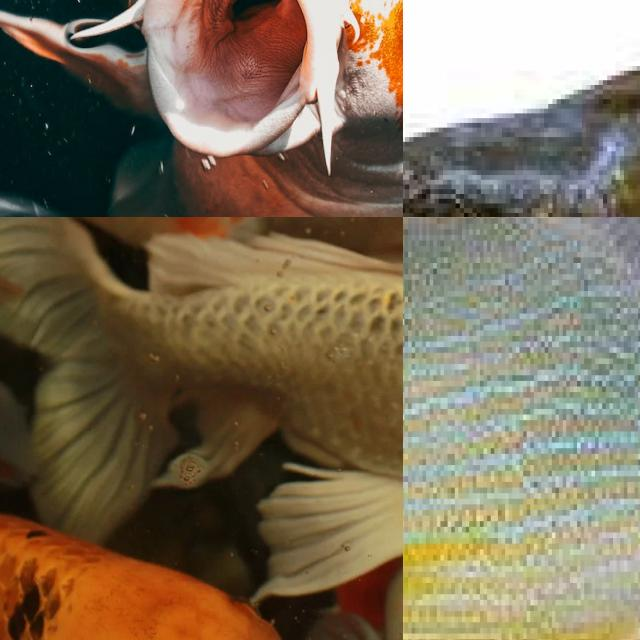fish: (403, 217, 640, 640), (0, 0, 403, 217), (167, 393, 403, 640), (403, 0, 640, 217)
